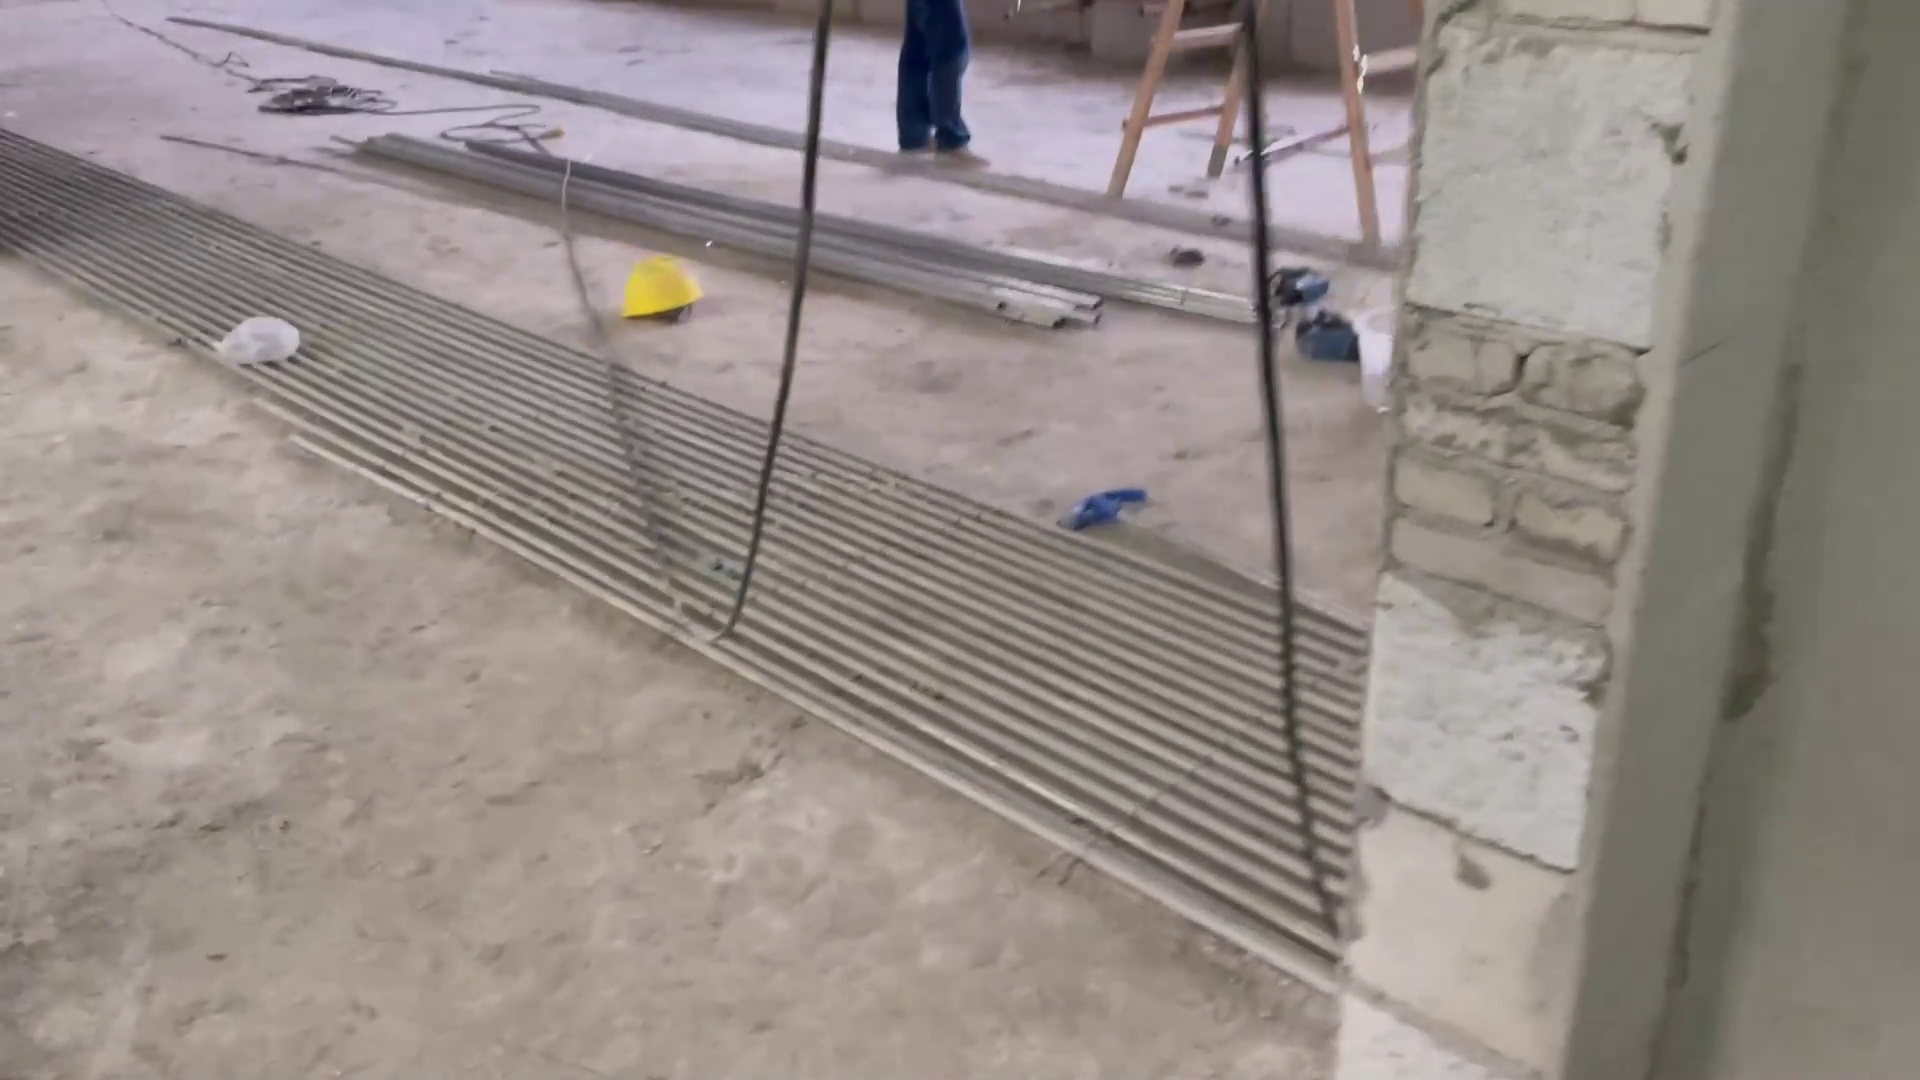helmet: (618, 249, 707, 323)
person: (879, 2, 993, 171)
